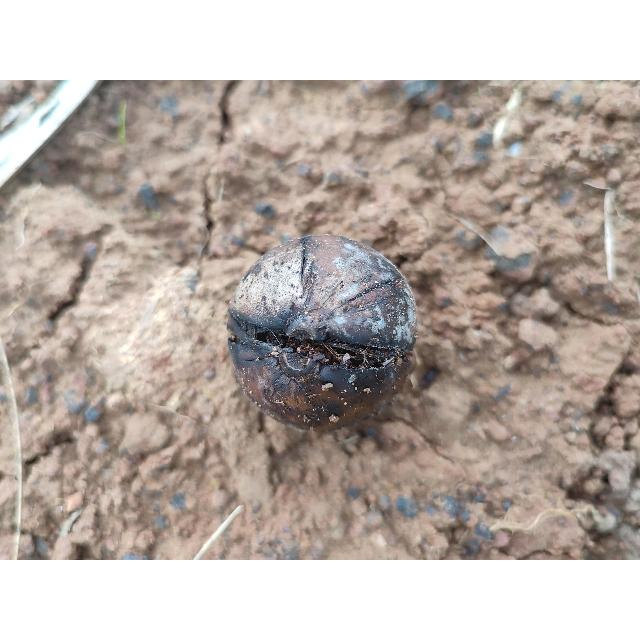damaged: (225, 235, 419, 431)
